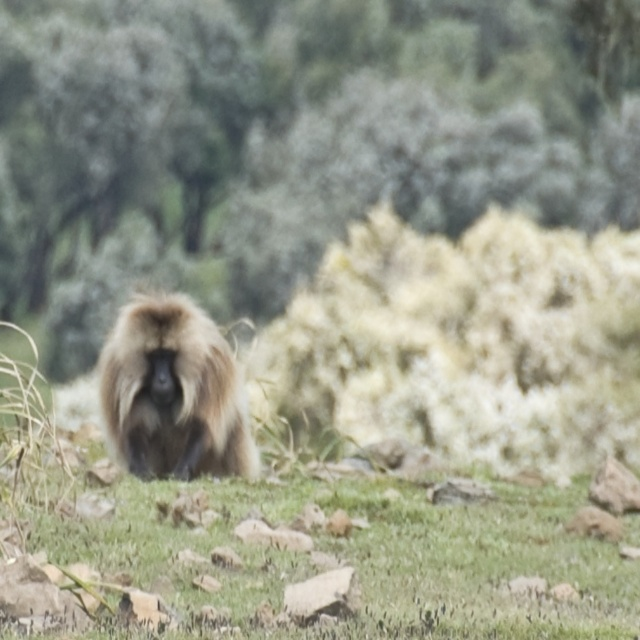Monkey: (103, 283, 271, 496)
